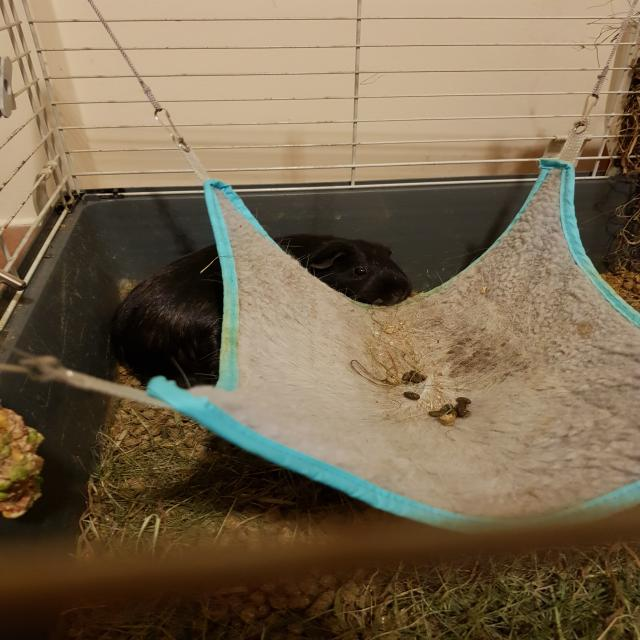guinea pig: (110, 232, 413, 390)
